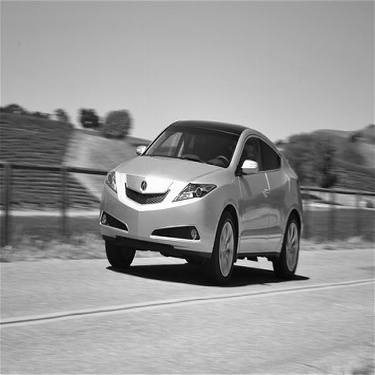car: (98, 106, 314, 286)
